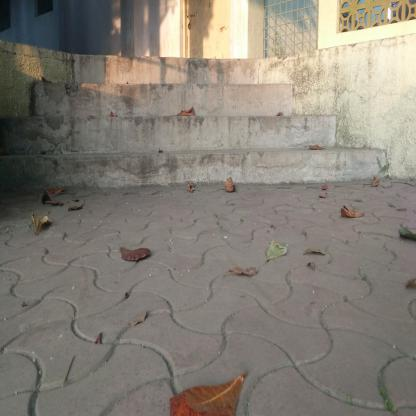stairs: (75, 58, 284, 192)
